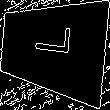L_W: (31, 30, 76, 67)
